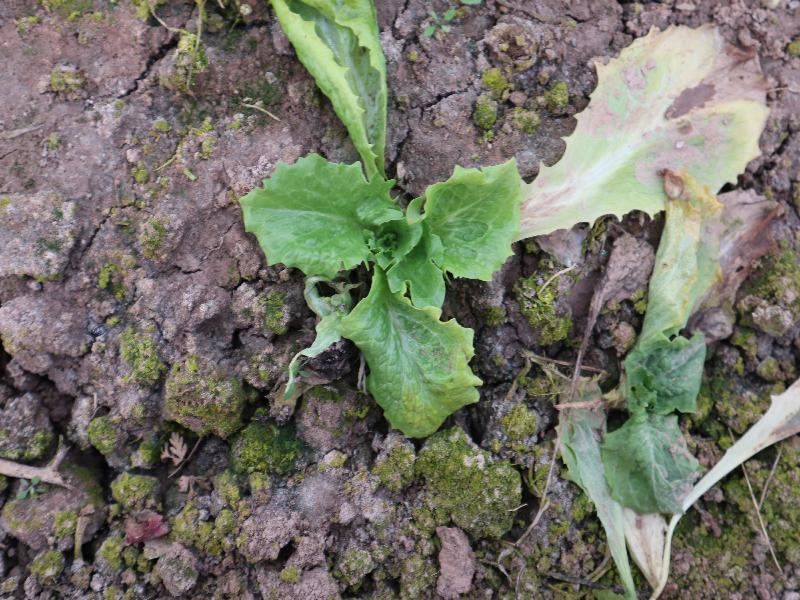lettuce: (235, 154, 525, 437)
